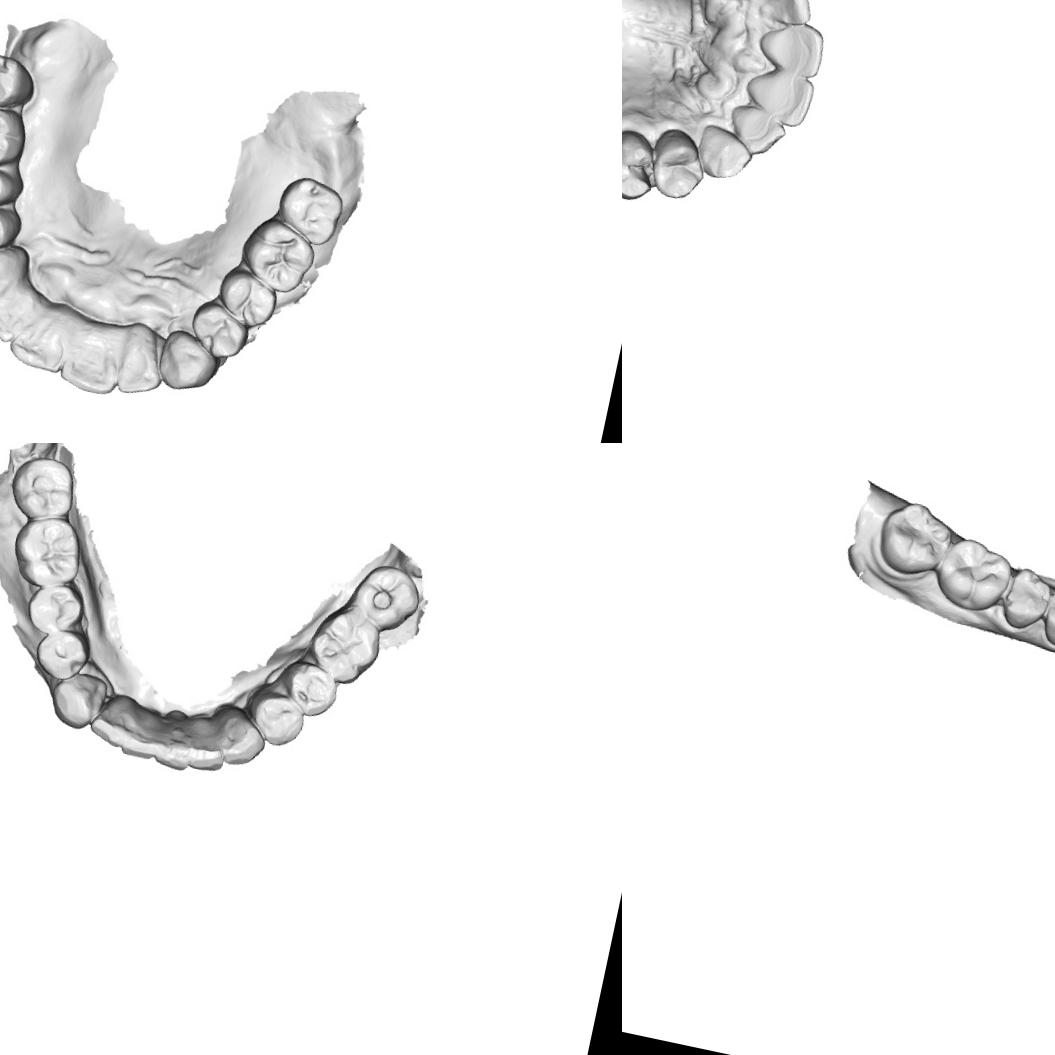canine: (153, 325, 225, 398), (208, 698, 274, 775), (43, 665, 113, 736), (692, 121, 758, 185), (0, 236, 33, 314)
incisor: (753, 15, 829, 80), (56, 328, 126, 398), (4, 306, 74, 376), (113, 318, 172, 401), (740, 66, 816, 130), (723, 102, 791, 161), (87, 682, 140, 752), (152, 704, 201, 777), (119, 700, 172, 767), (180, 714, 235, 778), (0, 278, 46, 349), (757, 0, 818, 29)
molar: (296, 598, 389, 693), (871, 494, 958, 584), (234, 212, 322, 299), (928, 532, 1016, 618), (6, 509, 92, 596), (344, 552, 430, 638), (3, 449, 84, 528), (271, 172, 349, 250), (0, 47, 41, 116), (0, 98, 33, 178)
premolar: (643, 125, 713, 204), (244, 679, 314, 755), (272, 654, 345, 725), (212, 264, 282, 334), (184, 296, 255, 364), (20, 576, 90, 641), (30, 620, 96, 686), (998, 564, 1055, 635), (622, 125, 663, 205), (0, 198, 24, 259), (0, 161, 26, 216), (1039, 586, 1055, 655)
